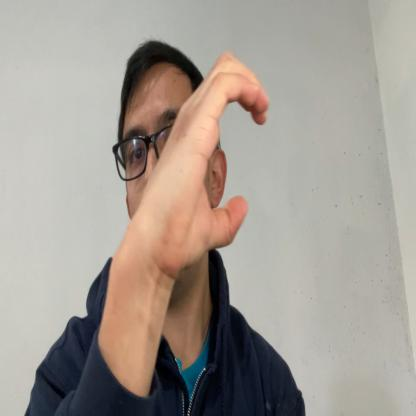C: (172, 49, 270, 266)
